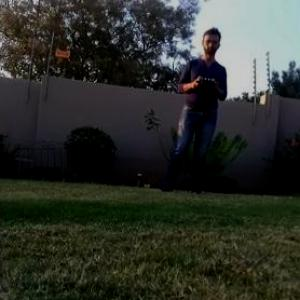follow: (154, 20, 230, 198)
